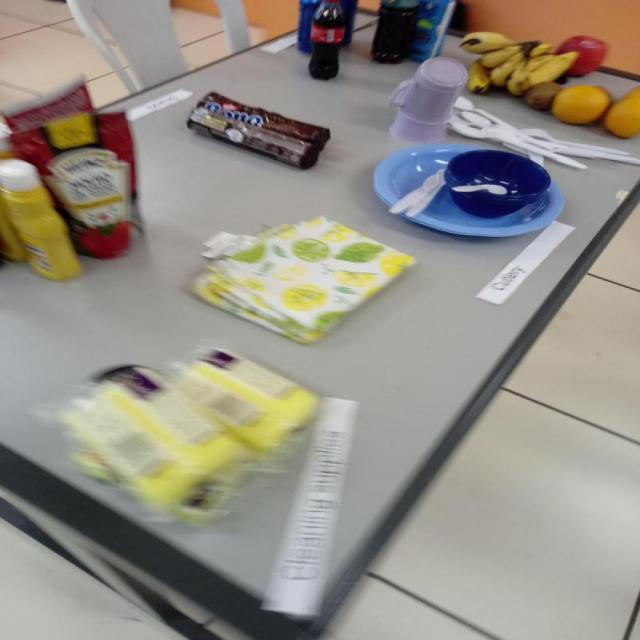Apple: (556, 34, 608, 76)
Banana: (460, 26, 577, 94)
Cloth: (190, 217, 416, 346)
CoconutWater: (417, 0, 455, 63)
Coke: (308, 0, 355, 82)
Cookies: (187, 106, 322, 170), (200, 92, 331, 148)
IceTea: (374, 0, 419, 66)
Kiwi: (526, 80, 564, 106)
Mustard: (0, 158, 82, 281)
Orange: (550, 85, 608, 126), (605, 100, 640, 139)
Sponge: (57, 368, 238, 513), (178, 358, 320, 445)
TomatoSauce: (21, 113, 136, 260)
